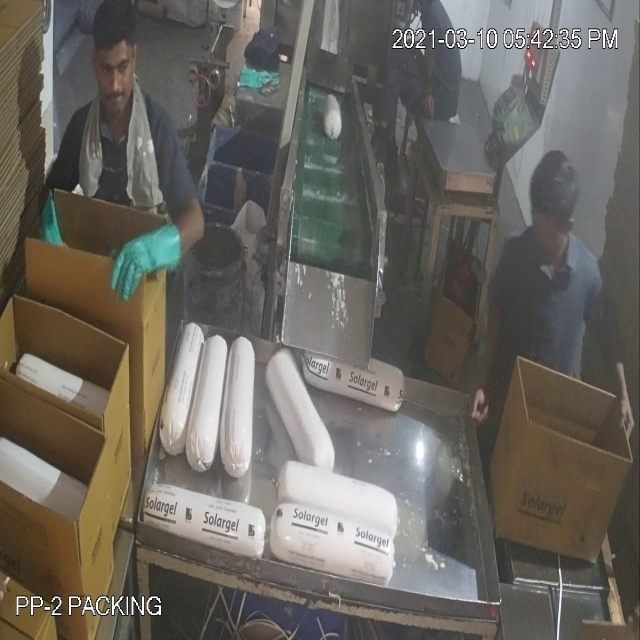Guantes: (99, 208, 196, 324)
Sin_guantes: (597, 304, 638, 472), (468, 282, 514, 431)
